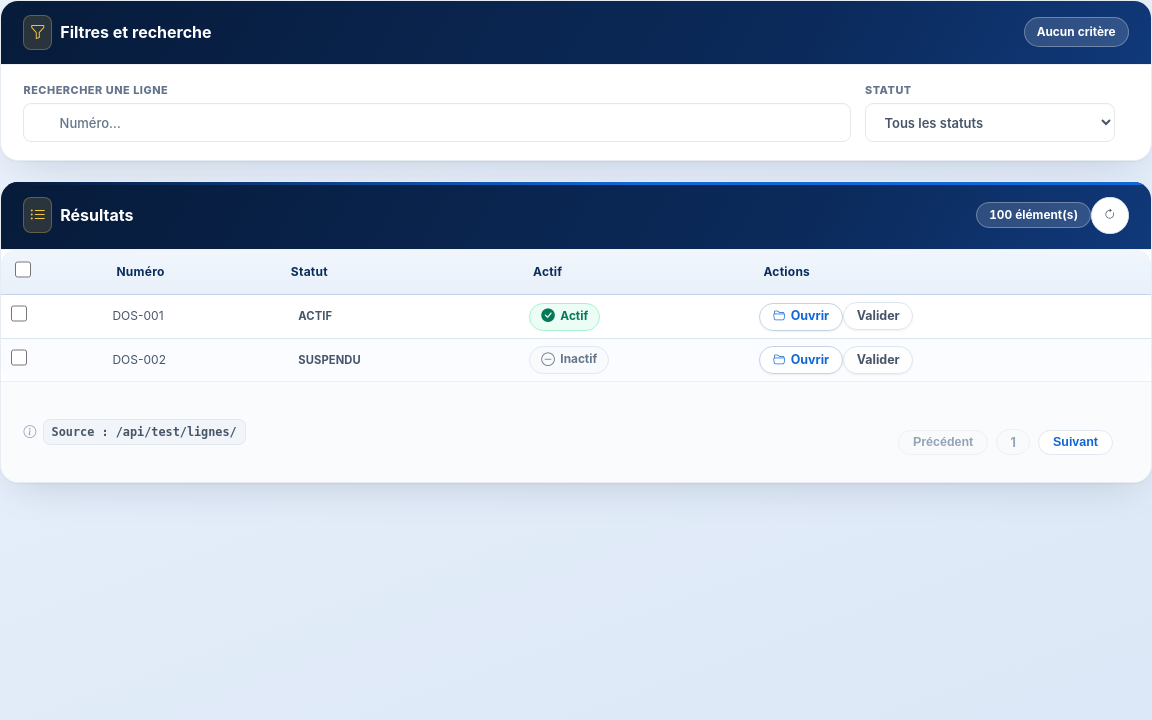
it: sélection des lignes de la page › efface la sélection quand la page change, même si les identifiants se répètent
expect the text "DOS-001" is shown: met, box [103,295,277,339]
Click the checkbox named "Tout sélectionner (page affichée)": {"x": 23, "y": 269} [15,261,31,278]
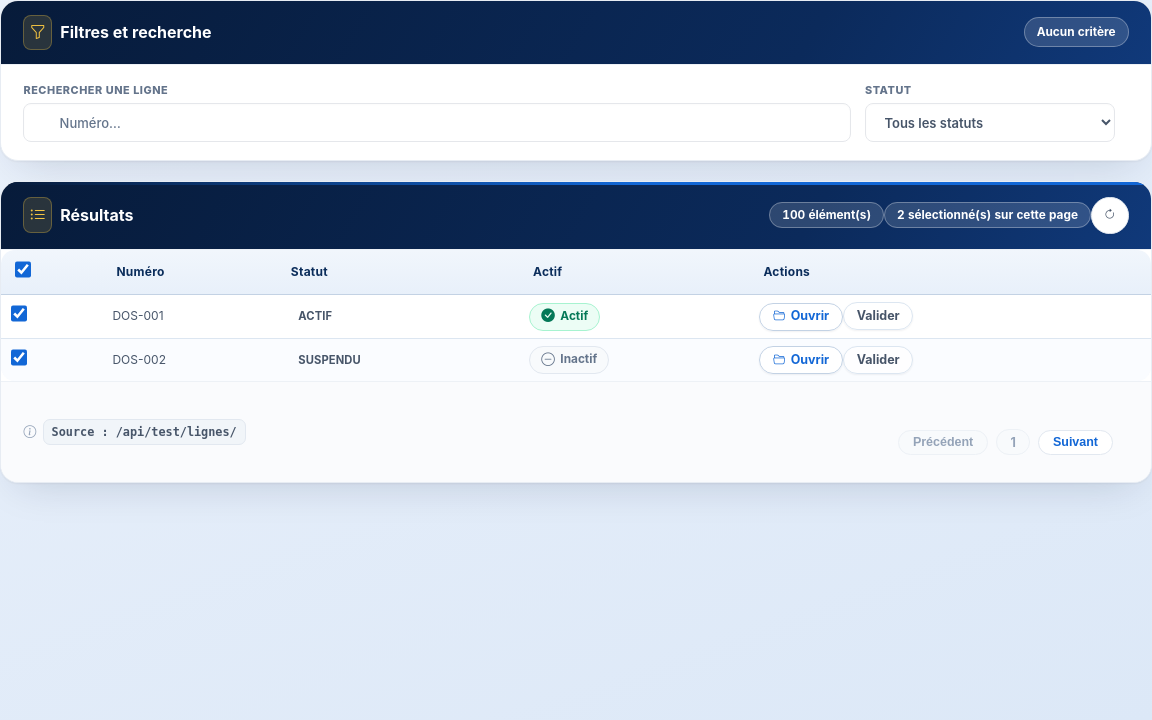
expect the checkbox named "Sélectionner la ligne DOS-001" is checked: met, box [11,305,27,322]
Click the button "Suivant": {"x": 1076, "y": 442} [1038,430,1113,455]
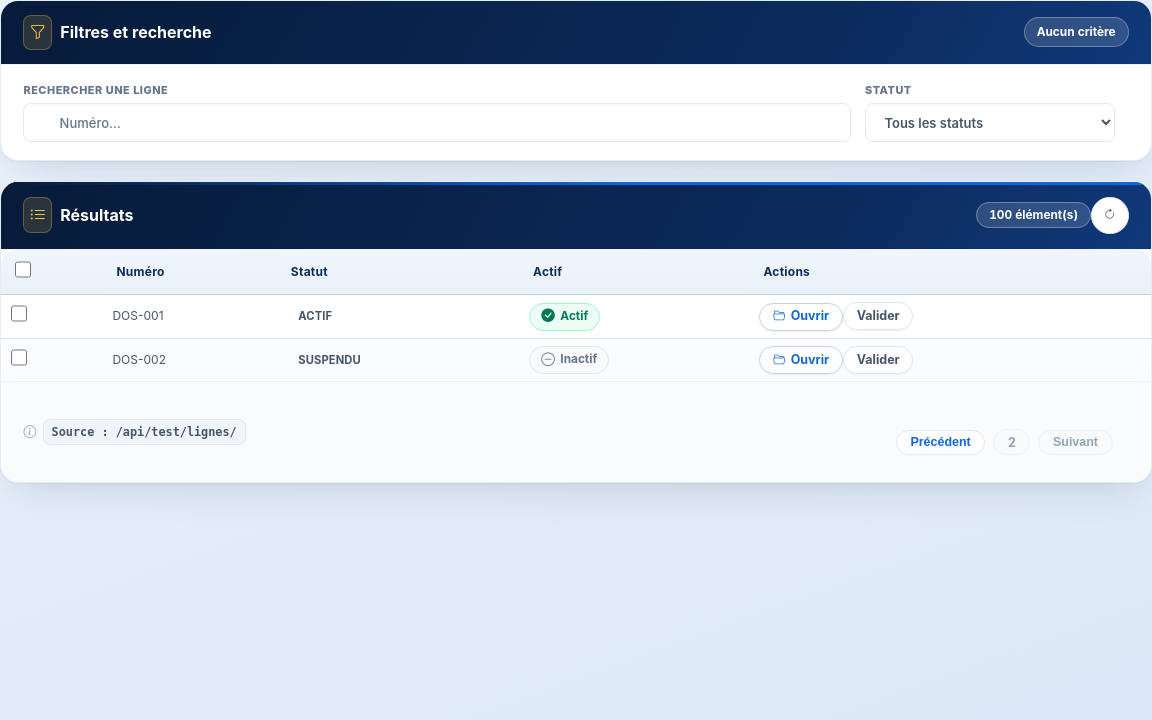
expect the checkbox named "Sélectionner la ligne DOS-001" is not checked: met, box [11,305,27,322]
